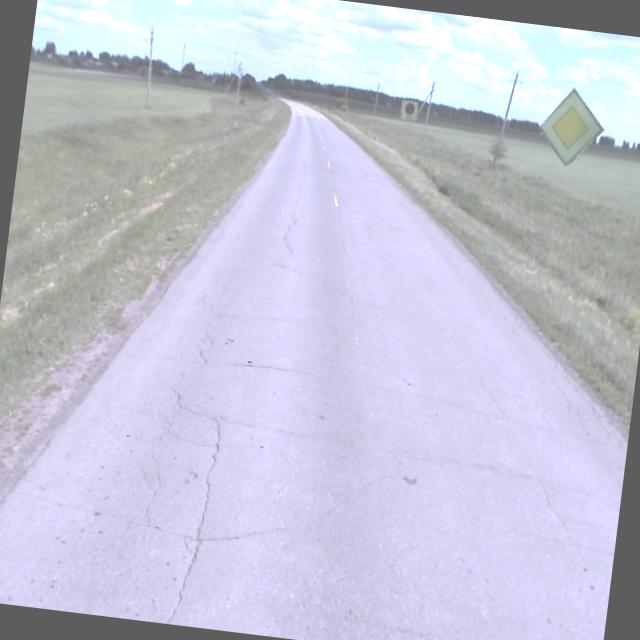road: (0, 101, 627, 640)
